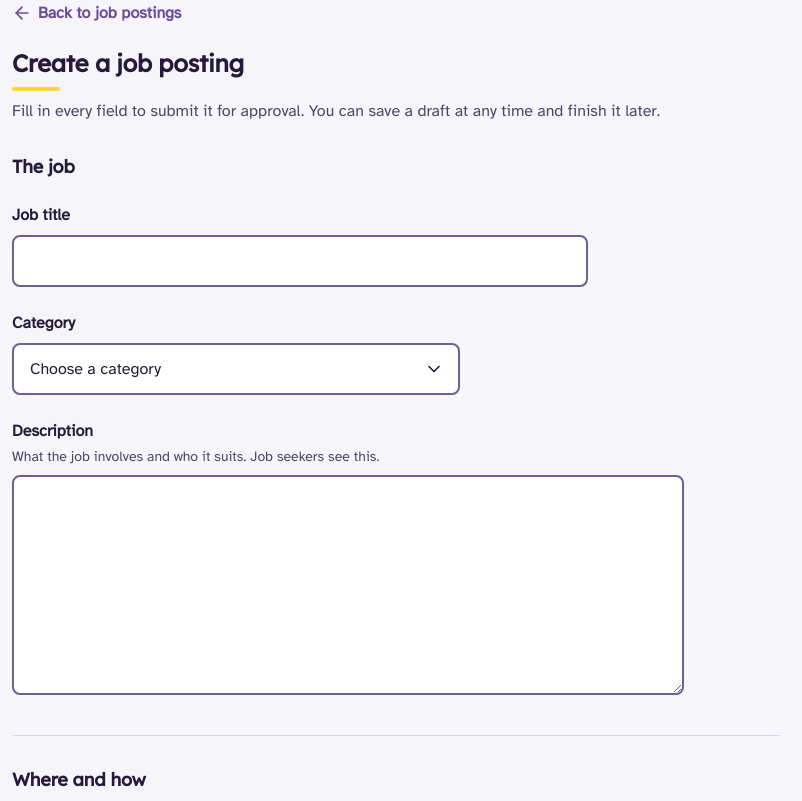
Test case: JobPostingFormPage › asks an employer with an unconfirmed email to confirm it, with a way to get a new link
This screenshot has width=802, height=801.
Type "Clerk" into the field labelled "Job title" at {"x": 300, "y": 261}, box [12,235,588,287]
(page scrolled)
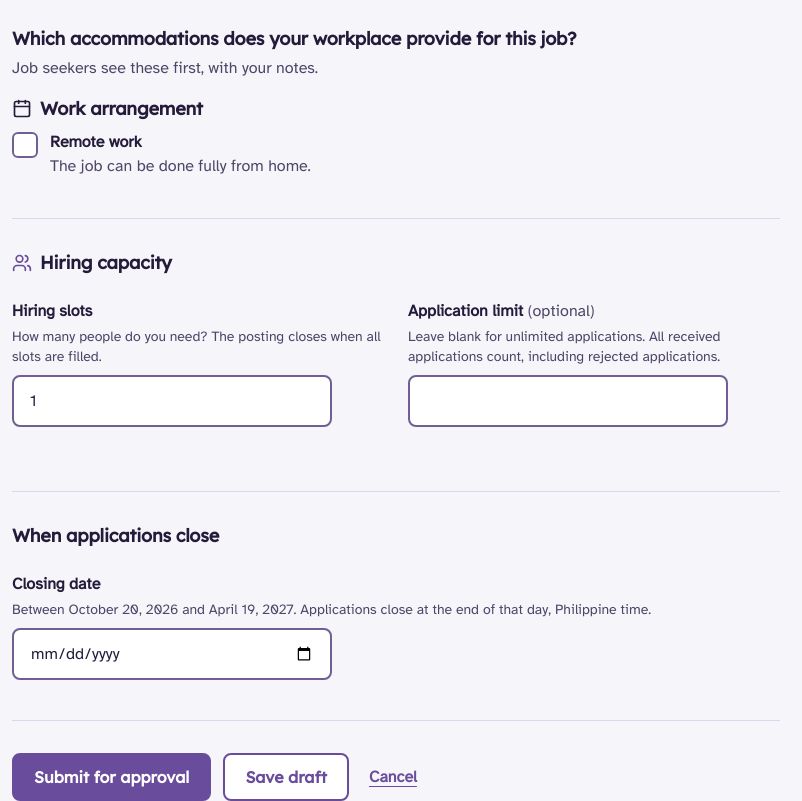
Click the button "Save draft" at {"x": 286, "y": 777}, box [223,753,349,800]
(page scrolled)
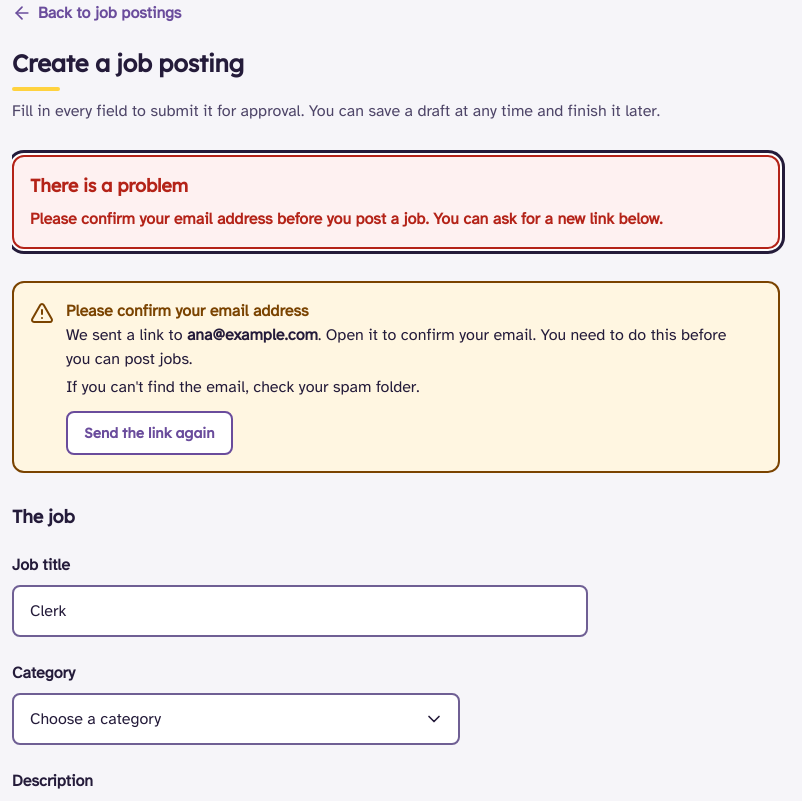
Now the text "Please confirm your email address before you post a job" is shown, box [30,209,663,229]
Now the button "Send the link again" is shown, box [66,411,232,455]
